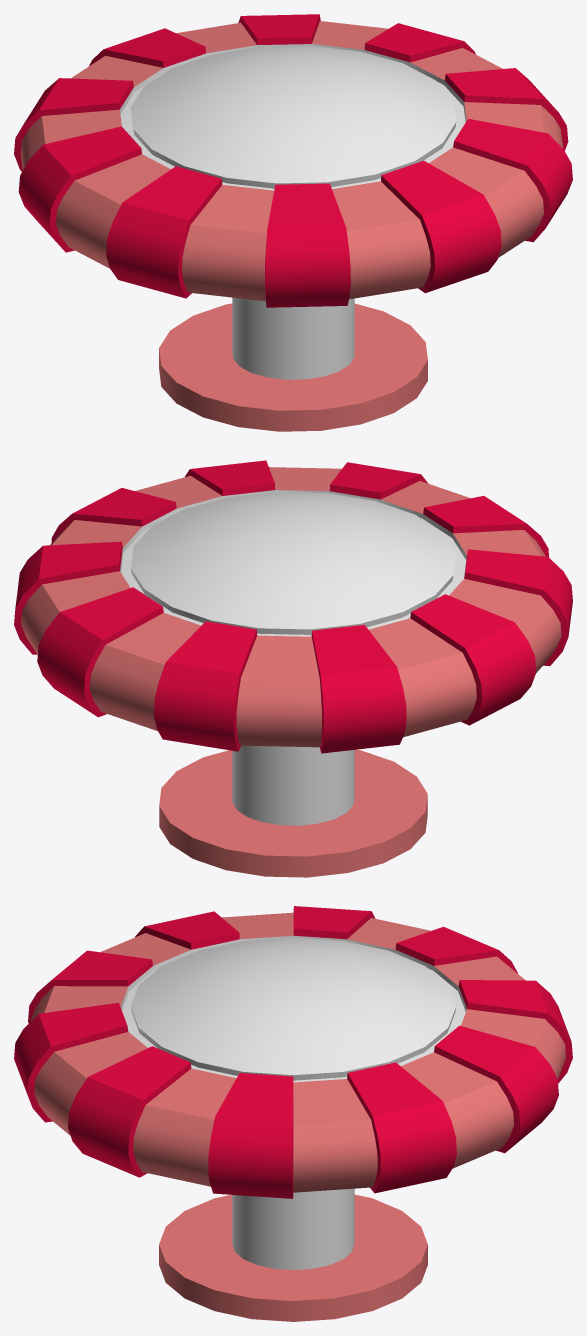
Rendered from Bouncer.fbx.
3 renders of one model, top to bottom at view 1: azimuth 30°, elevation 25°; view 2: azimuth 150°, elevation 25°; view 3: azimuth 270°, elevation 25°, orthographic.
Parts seen in each view (by area): view 1: pCylinder1; view 2: pCylinder1; view 3: pCylinder1.
Boxes of the visible parts, bbox=[...] form: pCylinder1: bbox=[14, 14, 572, 431]; pCylinder1: bbox=[14, 460, 572, 877]; pCylinder1: bbox=[14, 906, 572, 1321].
Size of the model in its own units: 169 by 96.62 by 169.
